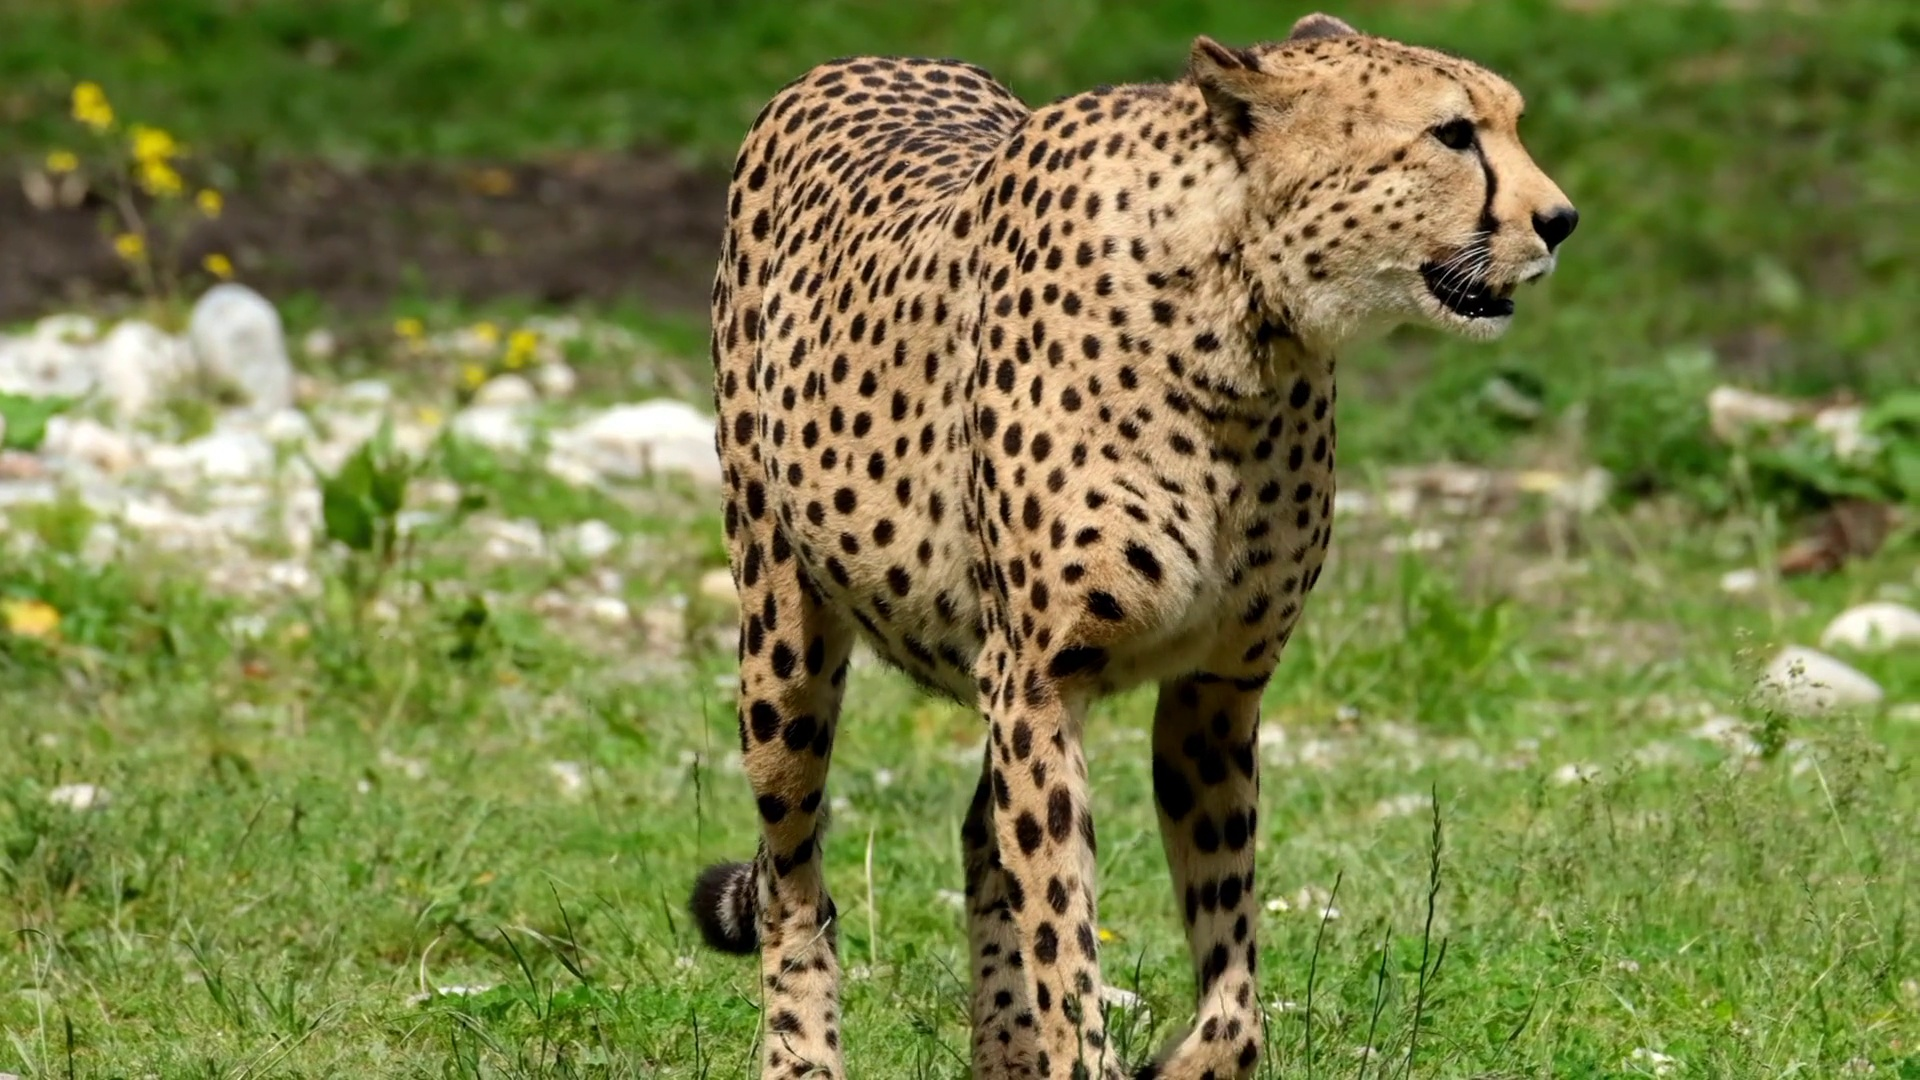Cheetah: (683, 9, 1582, 1080)
